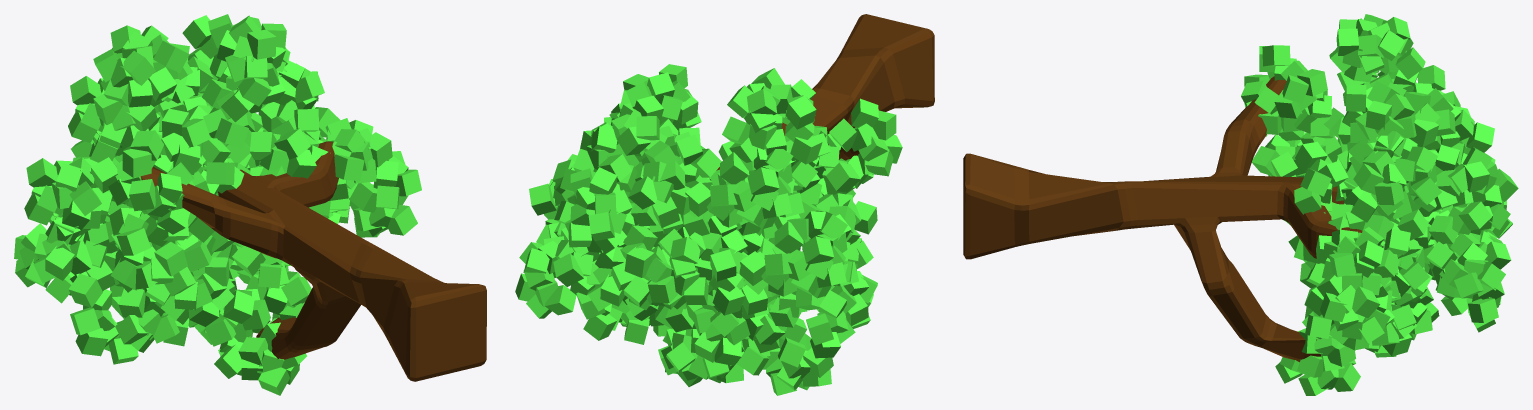
The model's file is Big_Tree.fbx.
3 renders of one model, left to right at view 1: azimuth 30°, elevation 25°; view 2: azimuth 150°, elevation 25°; view 3: azimuth 270°, elevation 25°, orthographic. The views are drawn at different scales.
Parts seen in each view (by area): view 1: Leaves; view 2: Leaves; view 3: Leaves.
Boxes of the visible parts, x1,y1,x2,y2 form: Leaves: [14, 14, 486, 395]; Leaves: [515, 14, 934, 395]; Leaves: [963, 14, 1518, 395].
Bounding box in the file's own units: 5628 × 3913 × 3656.
